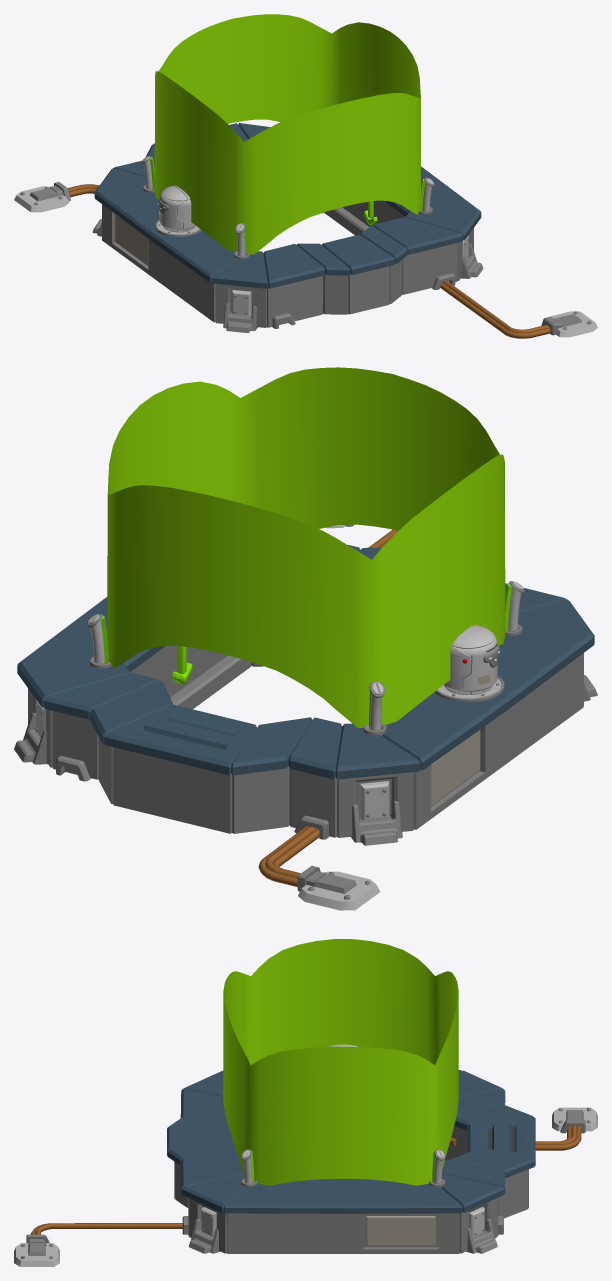
Rendered from Shelf.fbx.
3 renders of one model, top to bottom at view 1: azimuth 30°, elevation 25°; view 2: azimuth 150°, elevation 25°; view 3: azimuth 270°, elevation 25°, orthographic. The views are drawn at different scales.
Parts seen in each view (by area): view 1: Holograms_Wall, Shelf, Head; view 2: Holograms_Wall, Shelf, Head; view 3: Holograms_Wall, Shelf.
Boxes of the visible parts, bbox=[...] form: Holograms_Wall: bbox=[154, 14, 420, 254]; Shelf: bbox=[14, 123, 597, 338]; Head: bbox=[158, 185, 195, 229]; Holograms_Wall: bbox=[107, 367, 505, 727]; Shelf: bbox=[14, 524, 597, 910]; Head: bbox=[444, 625, 499, 691]; Holograms_Wall: bbox=[223, 939, 458, 1185]; Shelf: bbox=[14, 1070, 597, 1266].
Bounding box in the file's own units: 539 × 341 × 859.
